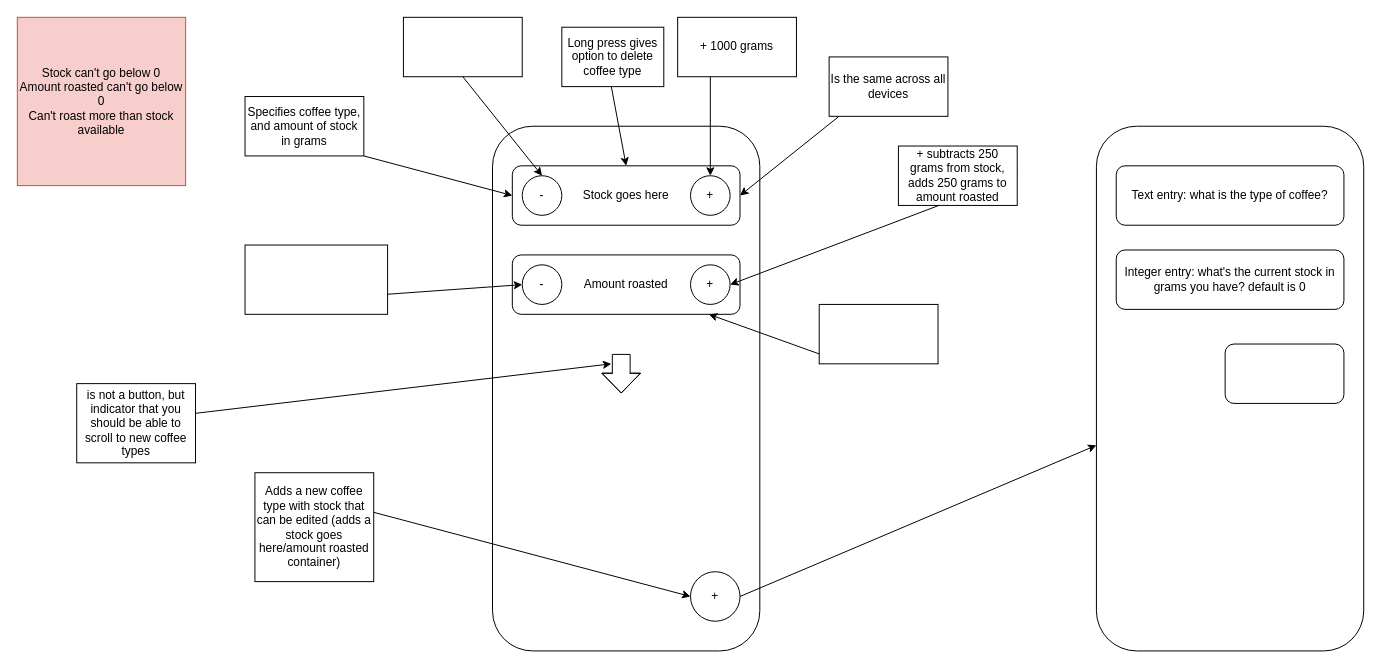
Image size: 1381x668. Some labels were removed from this diagram. The centre of each missing label's shape, as x and y in pixels:
"- 1000 grams" belongs at point 462,46.
"- subtracts 250 grams from amount roasted, adds 250 grams to stock" belongs at point 316,279.
"Gets cleared after each session" belongs at point 878,333.
"Submit" belongs at point 1284,373.
